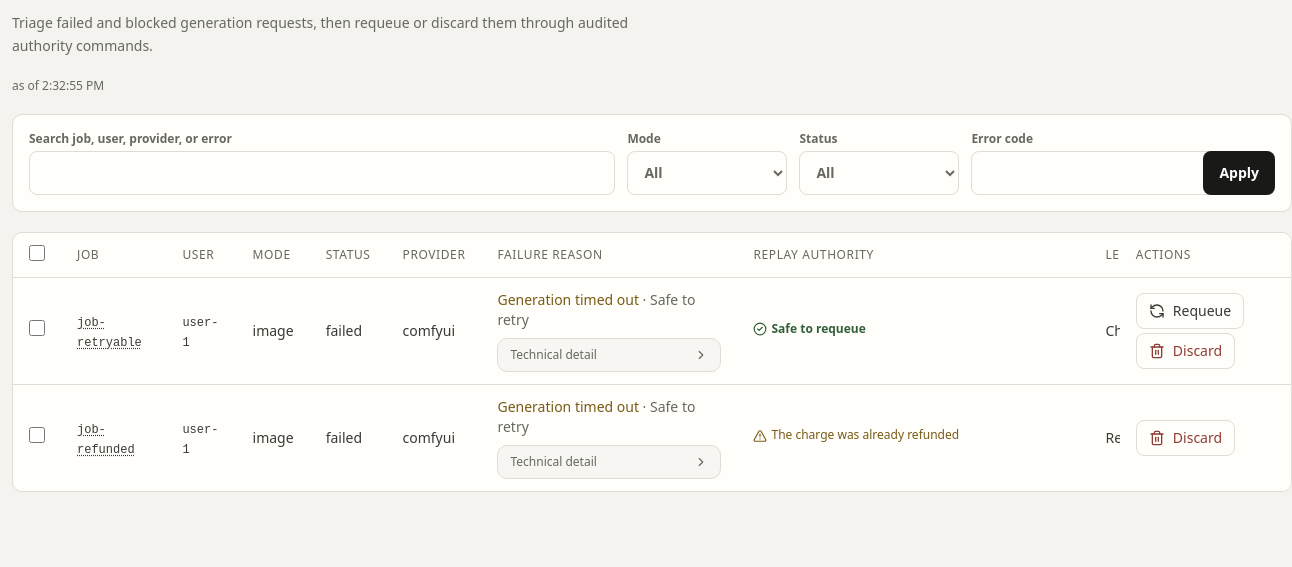
Test: DeadLetterWorkspace retry authority › selects every row from the table header and scopes each bulk command to what the authority allows
Click the checkbox named "Select all rows on this page" at [37, 252], box [29,244,45,260]
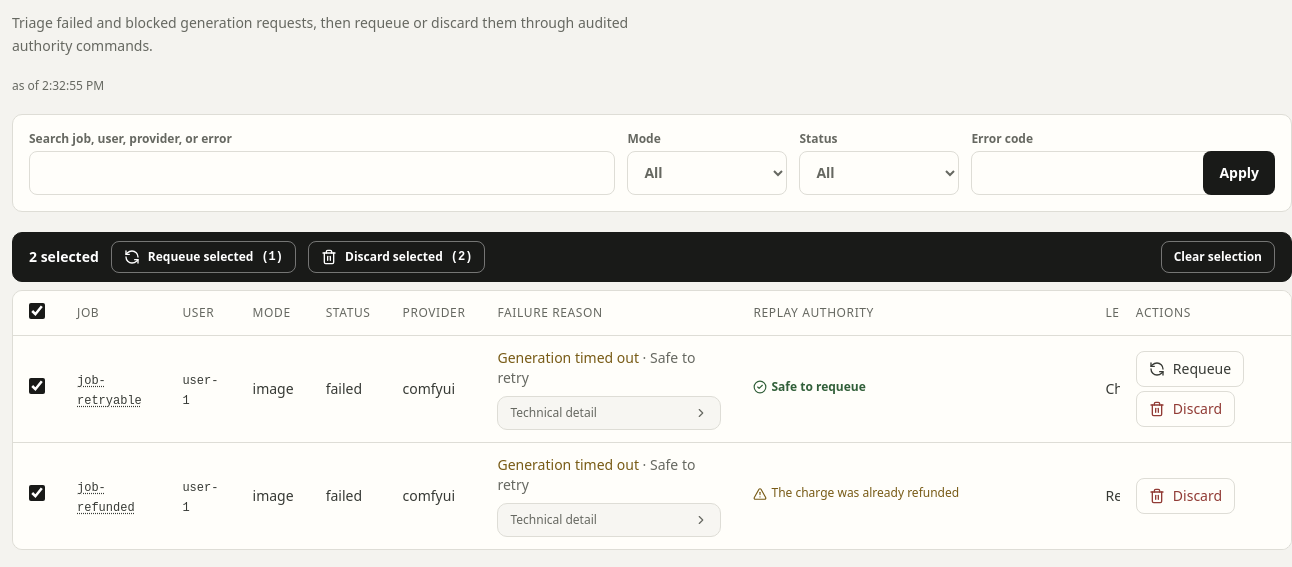
Now the text "2 selected" is shown, box [29,246,99,266]
Now the button "Requeue selected (1)" is shown, box [111,240,296,272]
Now the button "Discard selected (2)" is shown, box [308,240,485,272]
Click the button "Clear selection" at [1218, 256], box [1161,240,1275,272]
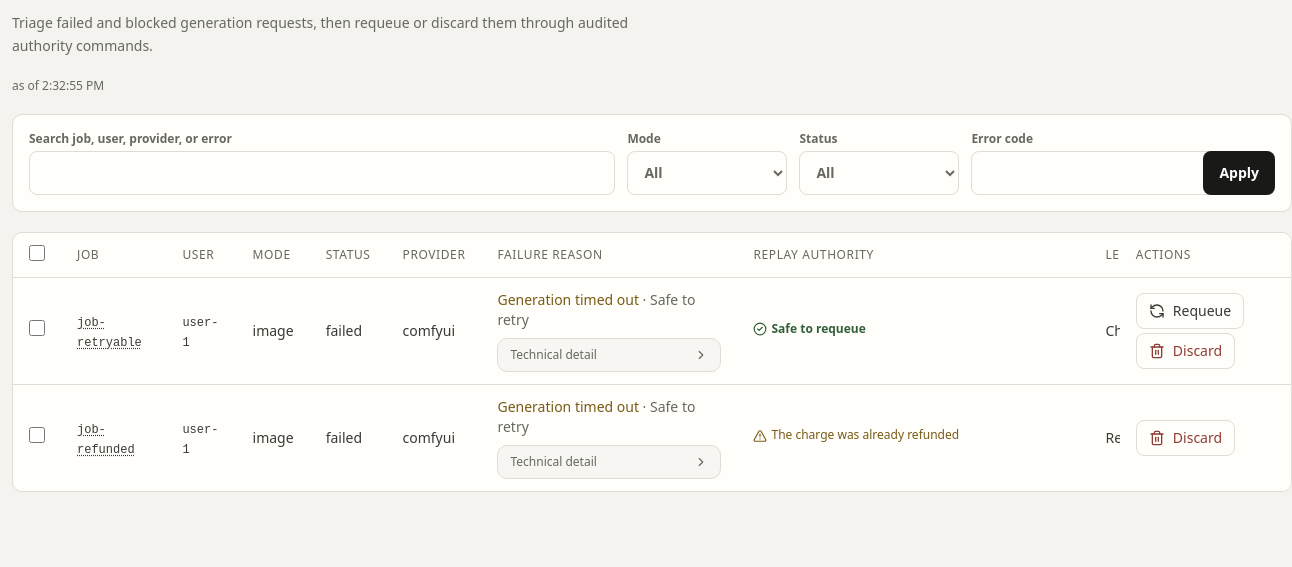
Now the text "2 selected" is gone
